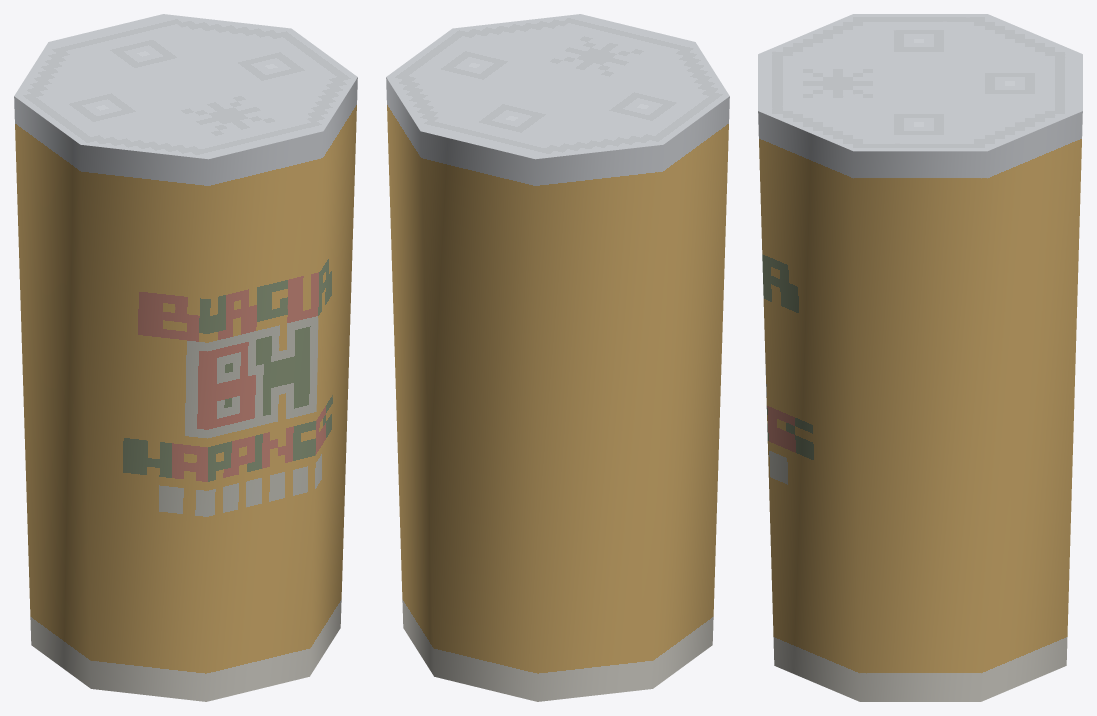
Rendered from 005d_Drink.glb.
3 renders of one model, left to right at view 1: azimuth 30°, elevation 25°; view 2: azimuth 150°, elevation 25°; view 3: azimuth 270°, elevation 25°, orthographic.
Parts seen in each view (by area): view 1: part_0; view 2: part_0; view 3: part_0.
Part boxes in pixels (left/top/right/bottom): part_0: left=14, top=14, right=357, bottom=701; part_0: left=386, top=14, right=729, bottom=701; part_0: left=758, top=14, right=1082, bottom=701.
Bounding box in the file's own units: 0.0739 × 0.14 × 0.0739.
Materials: 1 (1 with a texture image).
